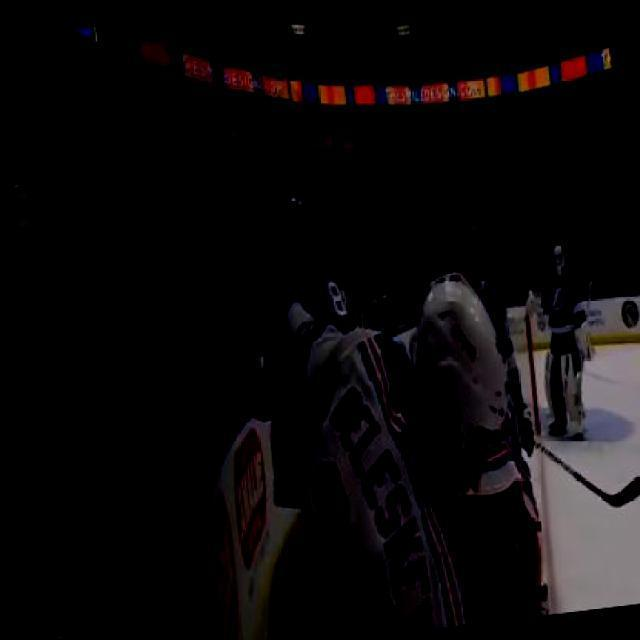fight: (190, 207, 542, 638)
non-fight: (517, 222, 603, 444)
